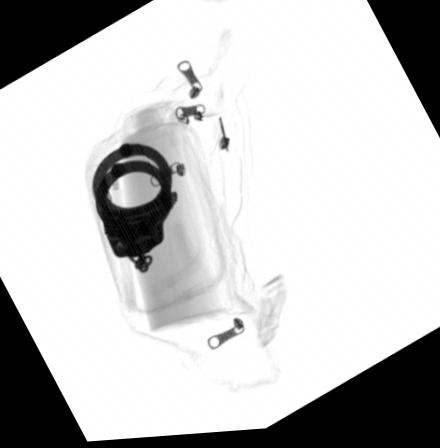HandCuffs: (91, 144, 178, 278)
